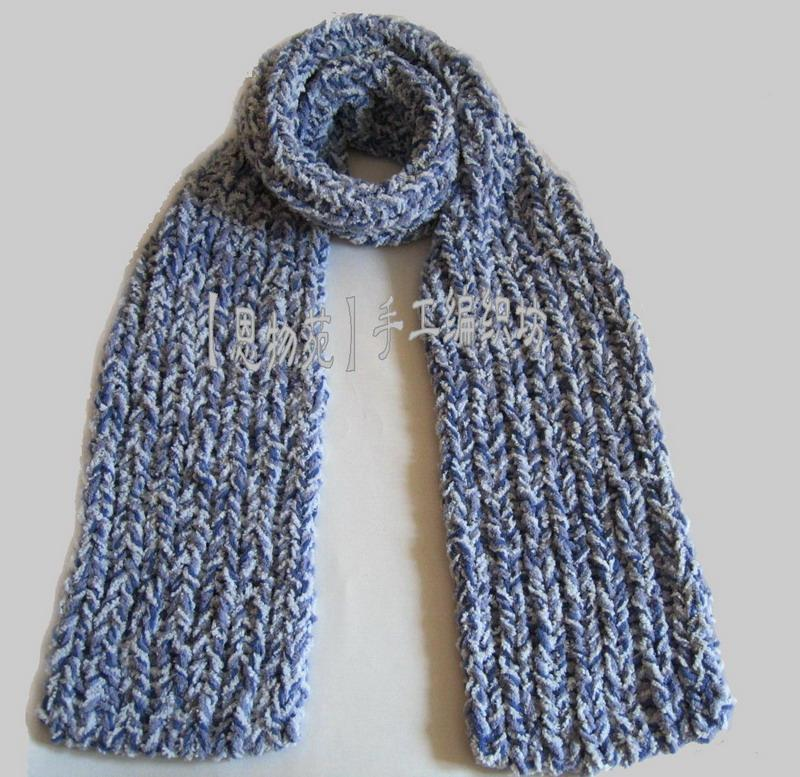flexible: (35, 12, 740, 772)
